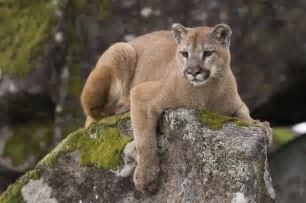Mountain Lion: (153, 22, 243, 92)
